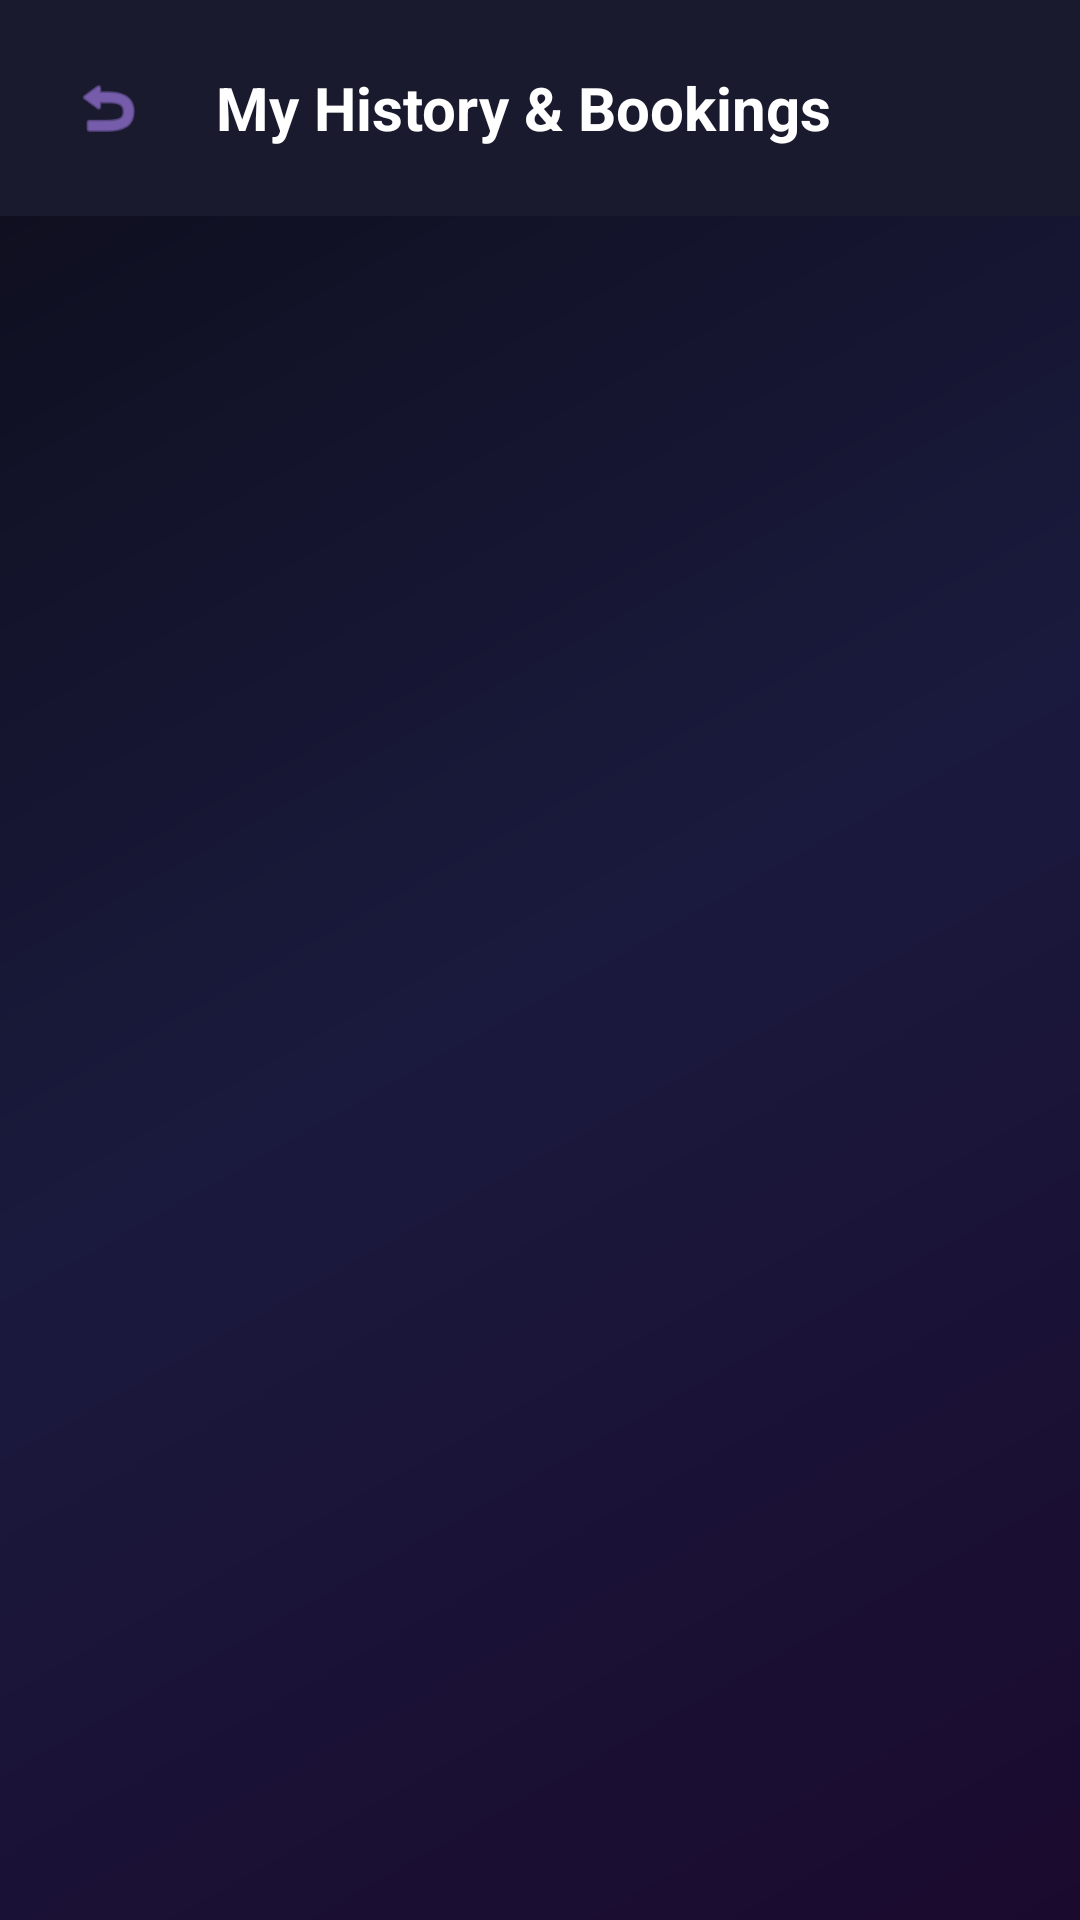

Named icons in this screenshot (1080px x 1920px) and their bounding boxes, bbox(x1, y1, x2, y2):
revert: bbox(83, 85, 135, 132)
